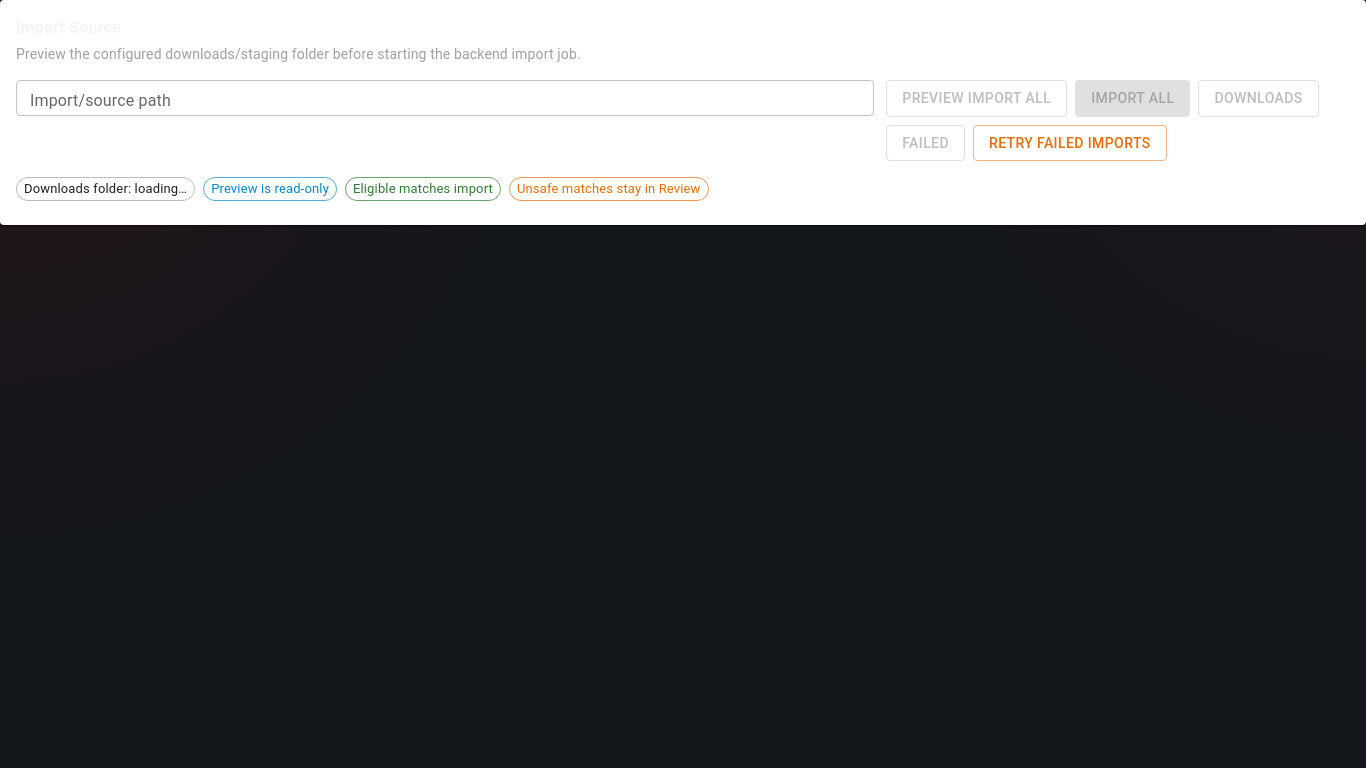
Scenario: Intake: retry and recover actions confirm first › Retry failed imports: nothing to retry keeps the confirm button disabled
Click the button "Retry failed imports" at (1070, 143), box top-left (973, 124), bottom-right (1167, 161)
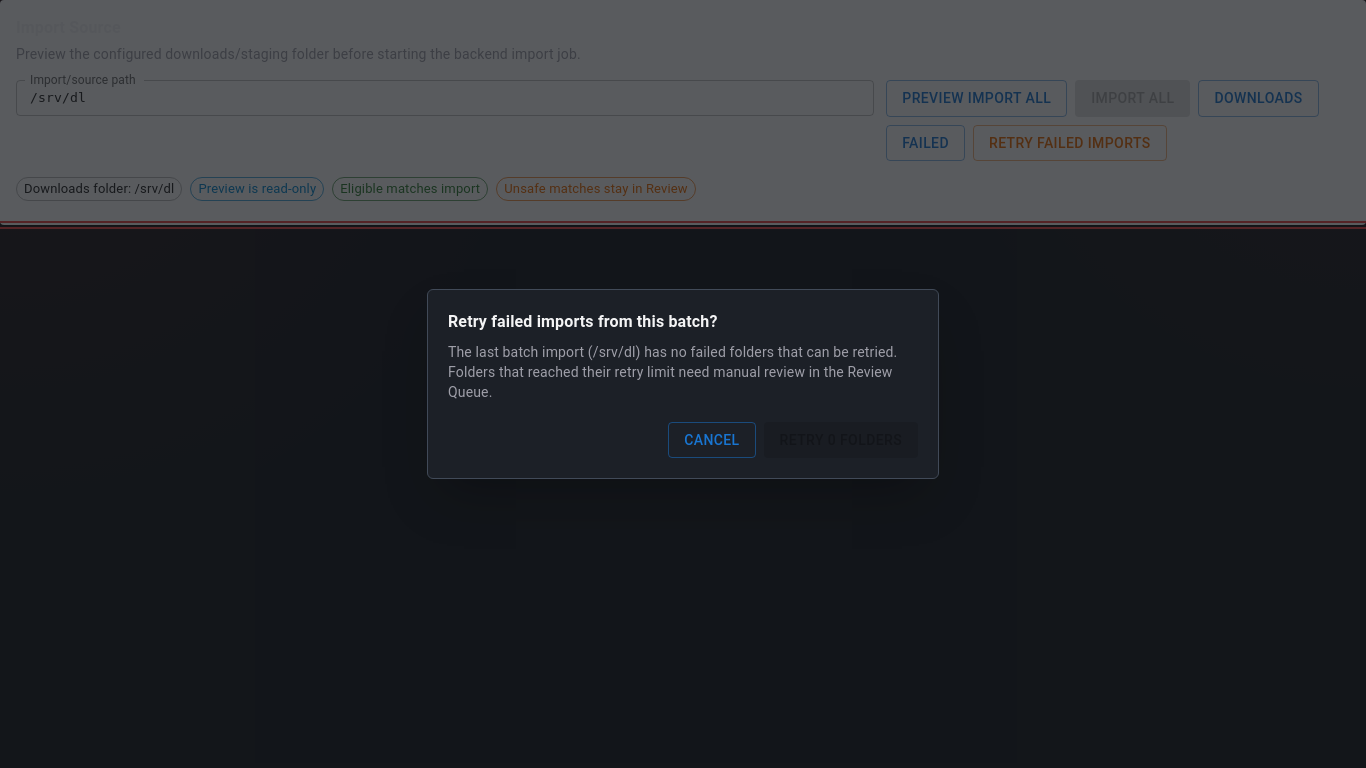
Expected: the text "has no failed folders that can be retried" is shown, top-left (448, 344), bottom-right (897, 400)
